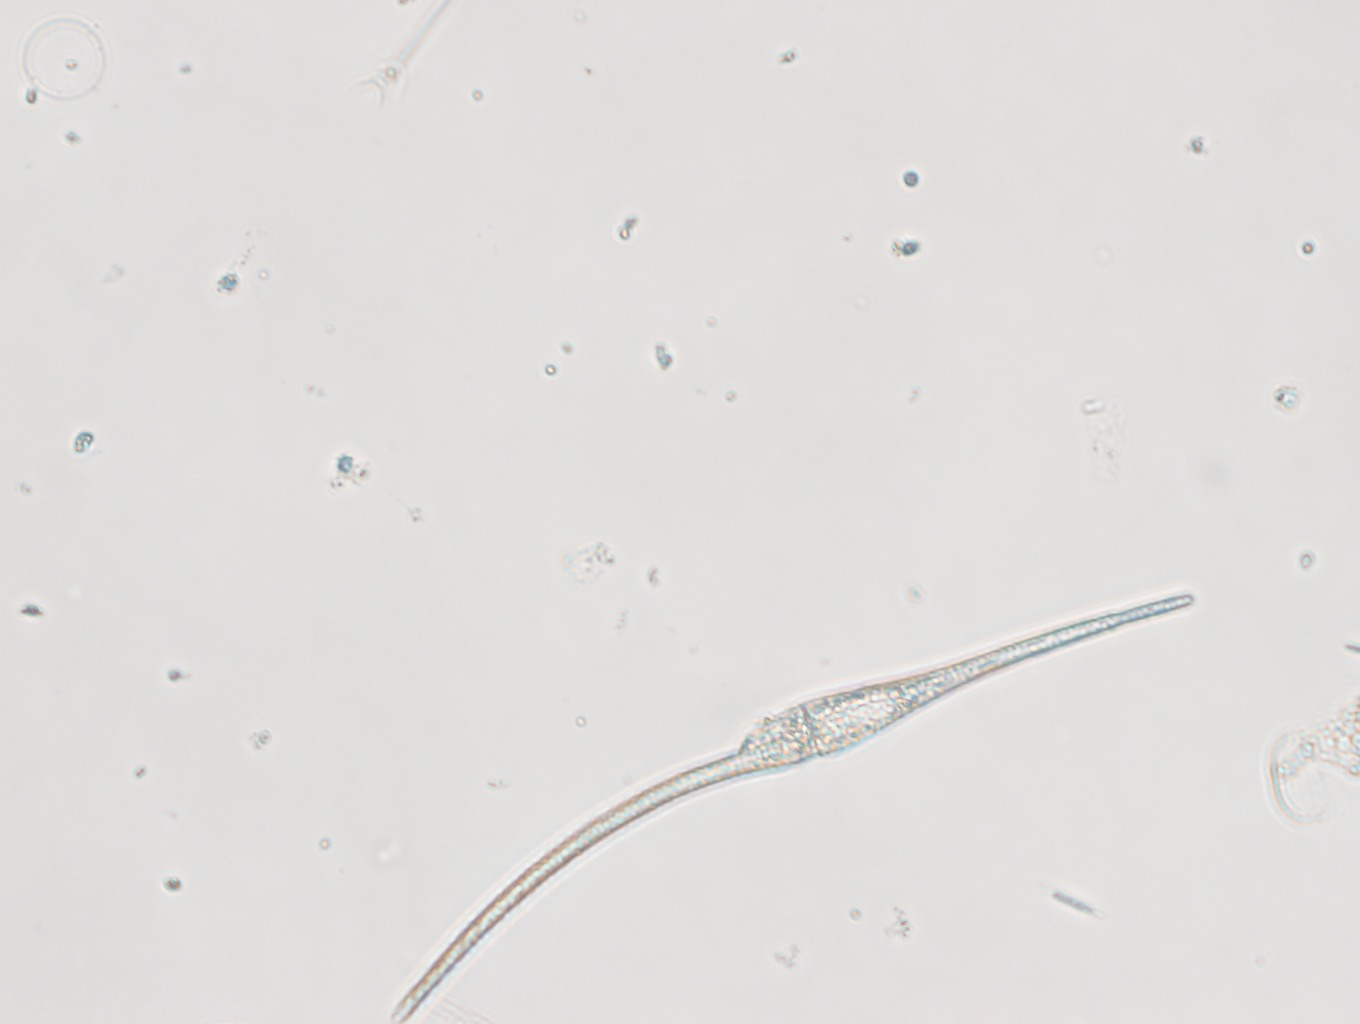ceratium fusus: (392, 587, 1198, 1024)
